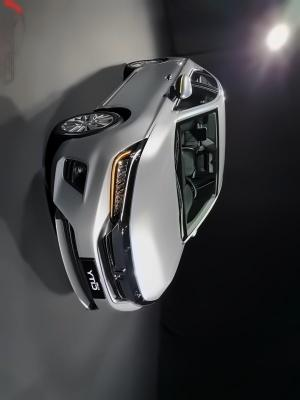Car hood: (129, 111, 188, 302)
Driver-s door - -F-R-: (107, 78, 227, 116)
Fender - -F-R-: (94, 103, 181, 149)
Front bumper: (47, 132, 118, 315)
Headlight - -R-: (106, 134, 152, 227)
Passenger-s door - -R-R-: (127, 59, 222, 83)
Side bumper - -R-: (90, 59, 144, 111)
Side mirror - -R-: (165, 70, 196, 103)
